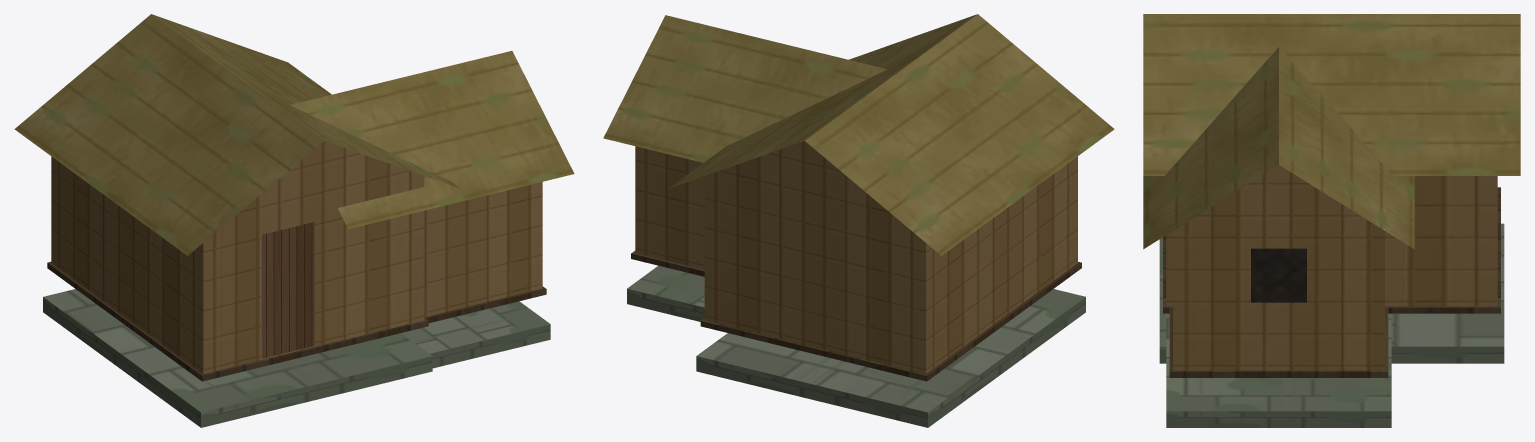
Rendered from ae_jungle_wood_medium_l_lod2.glb.
The picture shows the model from 3 angles, left to right: view 1: azimuth 30°, elevation 25°; view 2: azimuth 150°, elevation 25°; view 3: azimuth 270°, elevation 25°; orthographic projection. The views are drawn at different scales.
Parts seen in each view (by area): view 1: ae_jungle_wood_medium_l_lod2; view 2: ae_jungle_wood_medium_l_lod2; view 3: ae_jungle_wood_medium_l_lod2.
Boxes of the visible parts, left/top/right/bottom form: ae_jungle_wood_medium_l_lod2: left=14, top=14, right=574, bottom=427; ae_jungle_wood_medium_l_lod2: left=603, top=14, right=1114, bottom=427; ae_jungle_wood_medium_l_lod2: left=1143, top=14, right=1520, bottom=427.
Size of the model in its own units: 7.35 by 4.8 by 5.7.
1 material, 1 textured.
